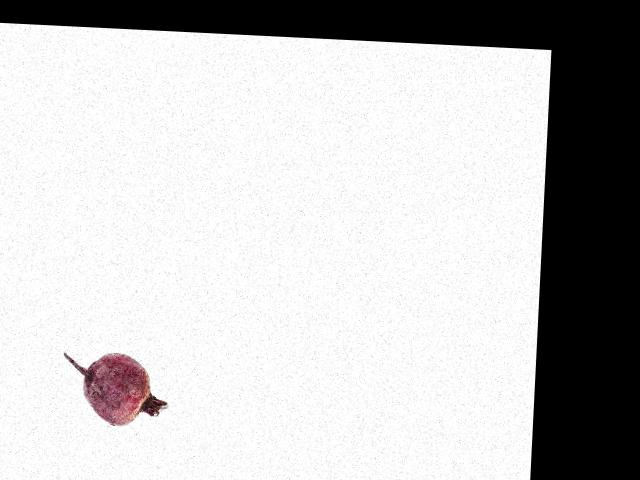beet: (61, 350, 170, 427)
